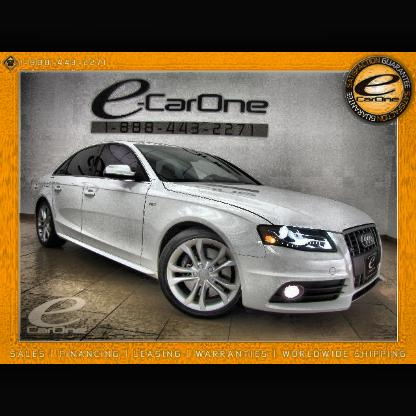Audi S4 Sedan 2012: (34, 140, 386, 323)
